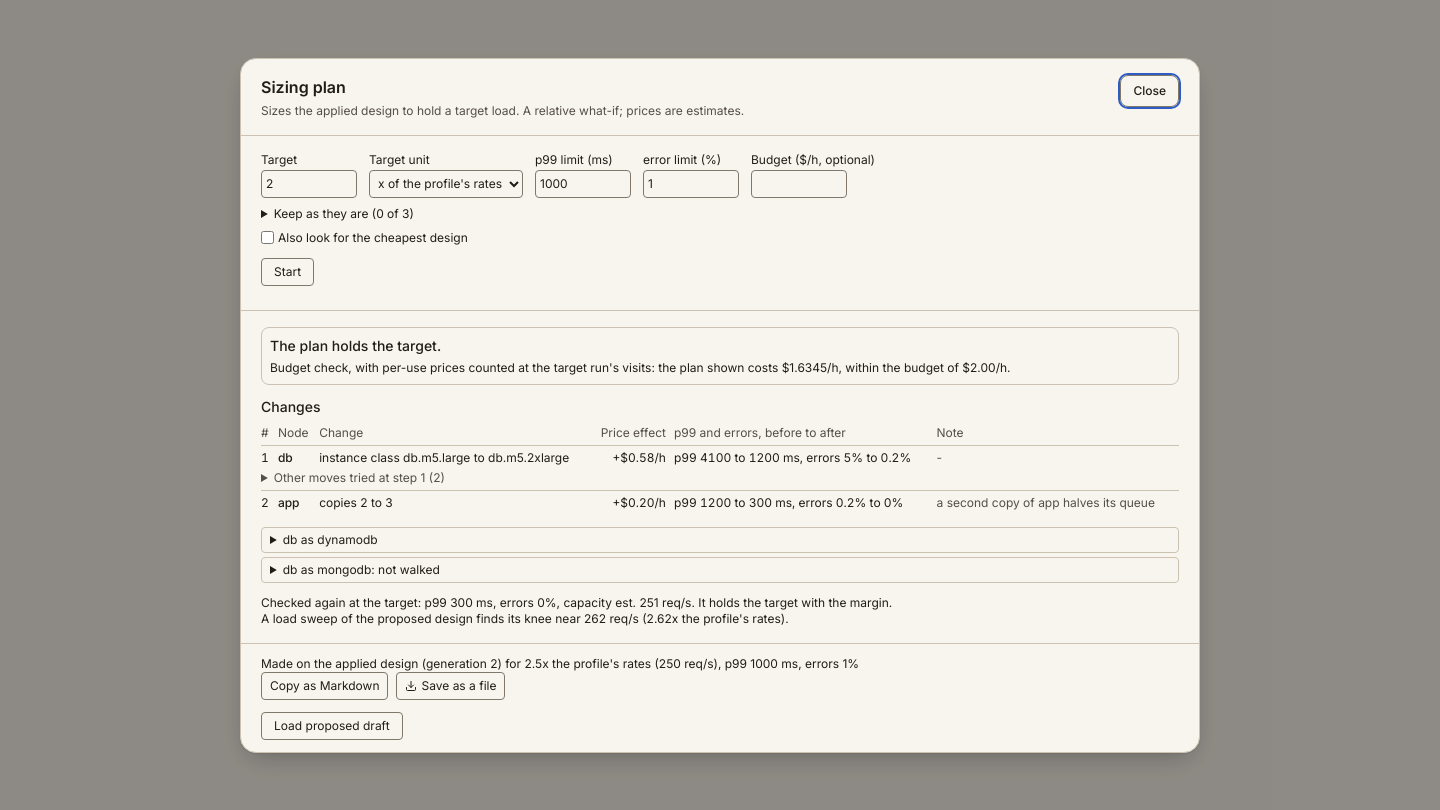
Test case: a refused load also says so inside the dialog, as an alert
The width and height of the screenshot is (1440, 810).
Click the button "Load proposed draft".
click(332, 726)  # box [261, 712, 403, 740]
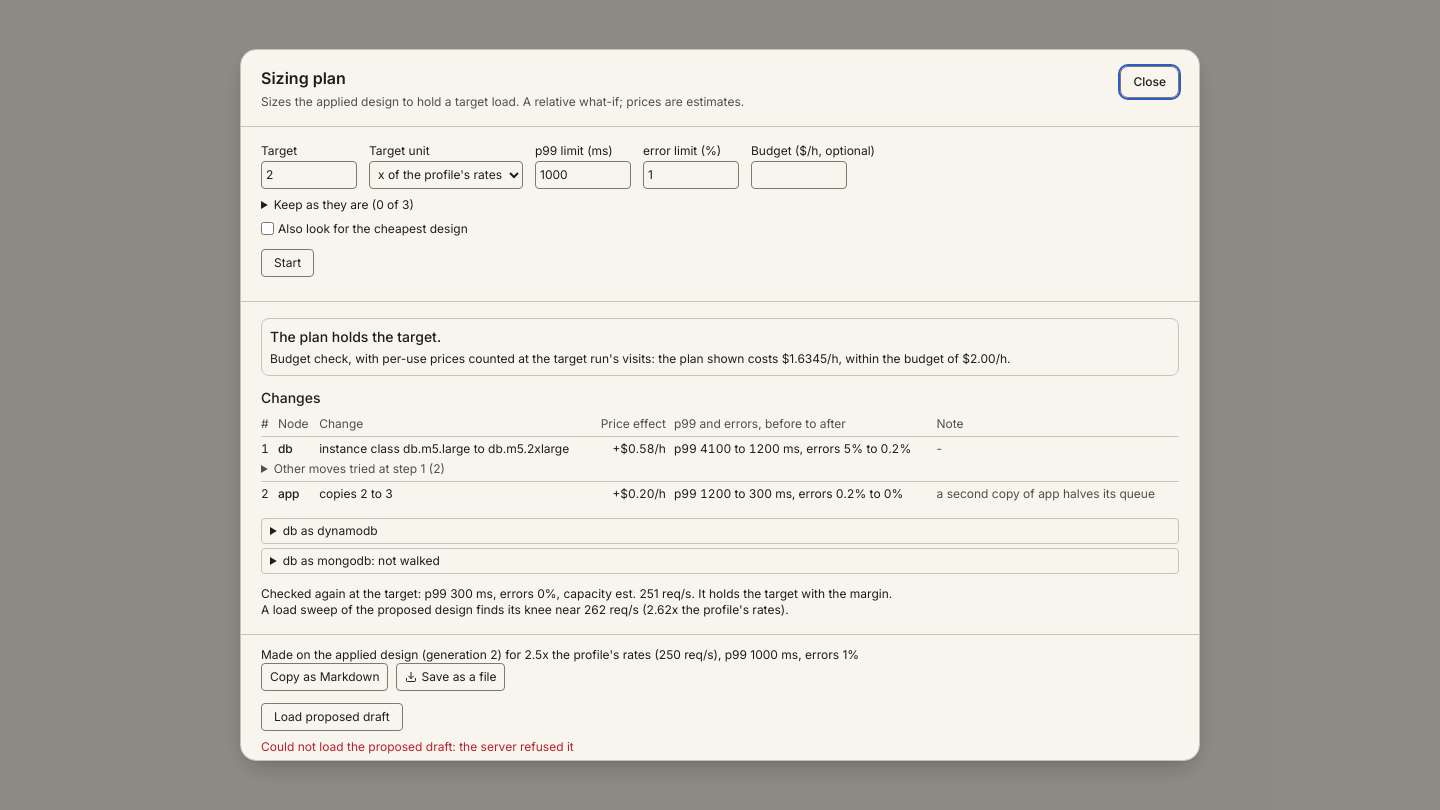
expect the message shows "Could not load the proposed draft": met, box [261, 739, 574, 754]
